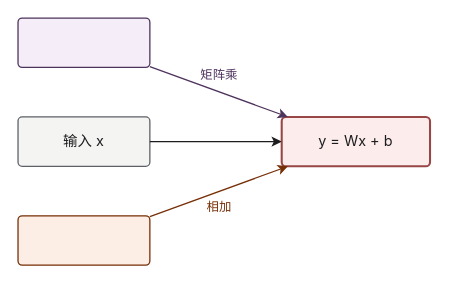
This 449x284 diagram has some shape labels left out. Here are the shapes that lost their labels. From the top down, the centre of each, then its label:
At (x=83, y=42): "权重 W".
At (x=83, y=240): "偏置 b".
